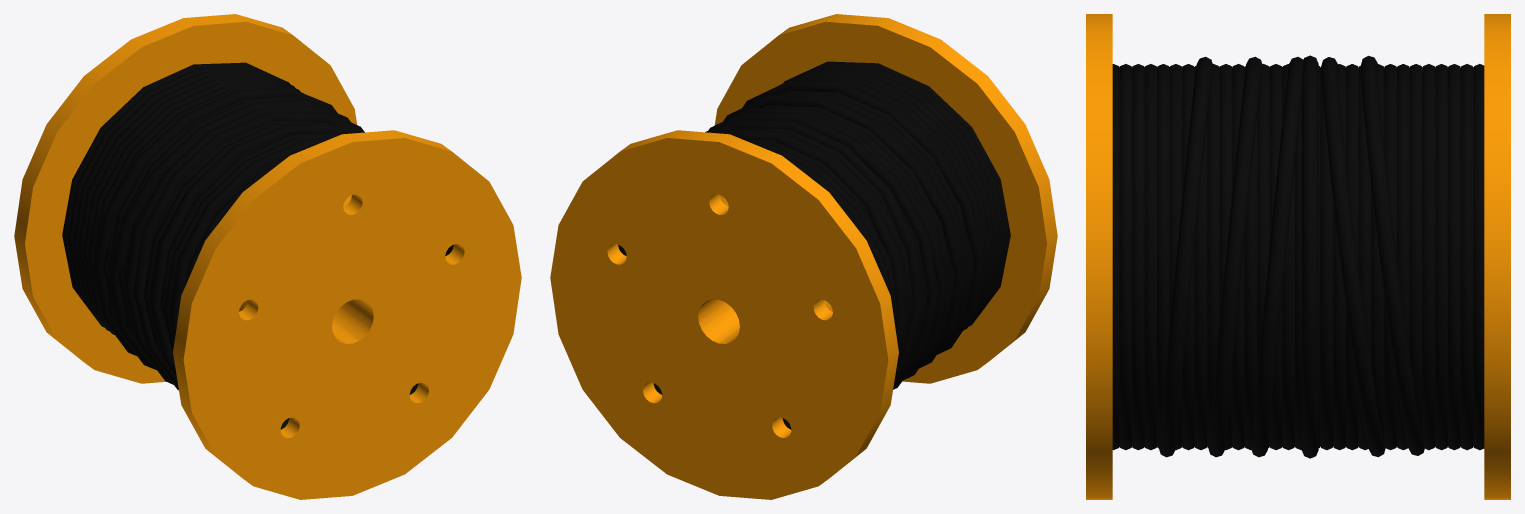
The model's file is cable_drum.glb.
3 renders of one model, left to right at view 1: azimuth 30°, elevation 25°; view 2: azimuth 150°, elevation 25°; view 3: azimuth 270°, elevation 25°, orthographic. The views are drawn at different scales.
Parts seen in each view (by area): view 1: cable_drum1; view 2: cable_drum1; view 3: cable_drum1.
Part boxes in pixels (x1,y1,x2,y2): cable_drum1: (14,14,521,499); cable_drum1: (550,14,1057,499); cable_drum1: (1086,14,1510,499).
Bounding box in the file's own units: 0.7565 × 0.7565 × 0.6562.
